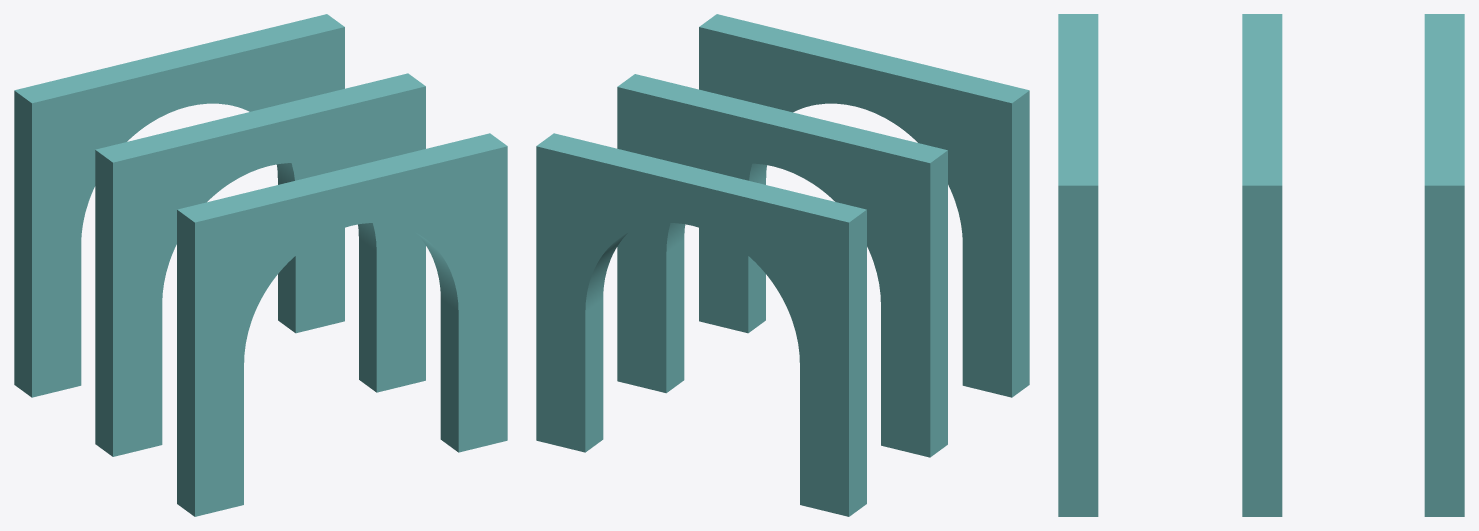
Rendered from Project 01_SBR.glb.
3 views of the same model, side by side, from view 1: azimuth 30°, elevation 25°; view 2: azimuth 150°, elevation 25°; view 3: azimuth 270°, elevation 25° (orthographic). The views are drawn at different scales.
Size of the model in its own units: 0.5 by 0.4494 by 0.5.
